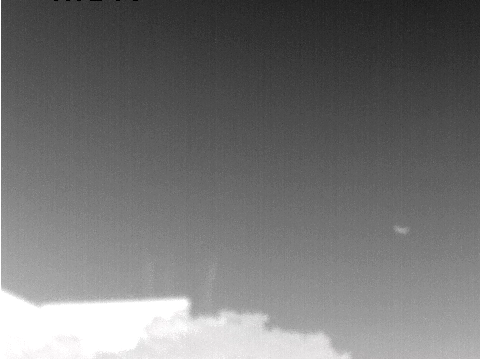dim target: (389, 221, 414, 238)
